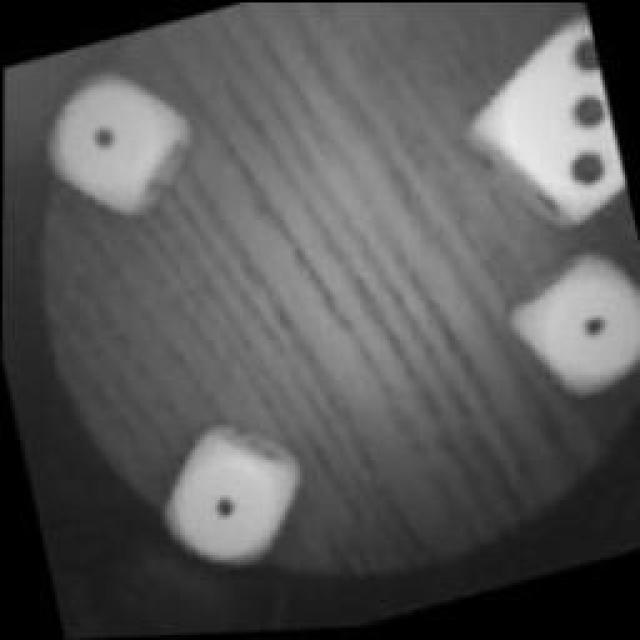dice_1: (21, 45, 201, 233), (148, 415, 314, 585), (492, 243, 640, 415)
dice_3: (444, 10, 628, 240)
